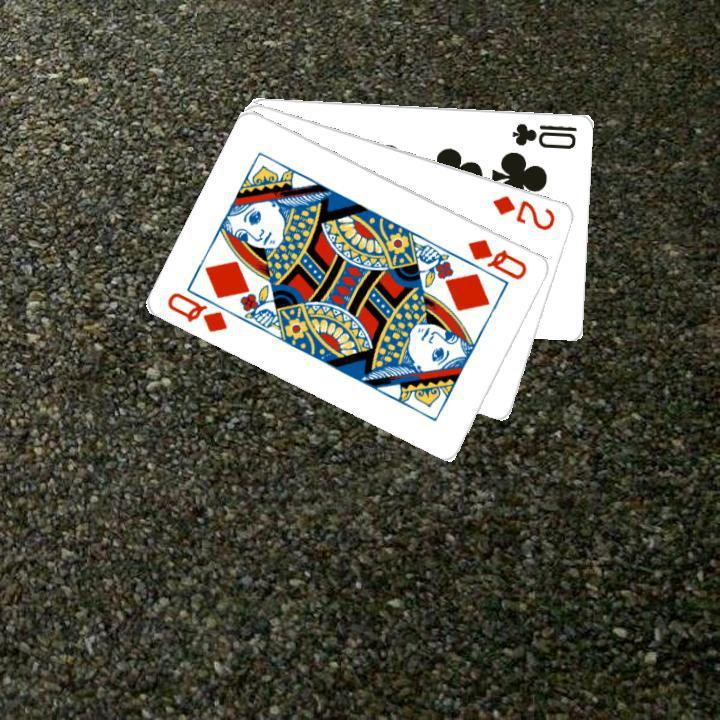10: (508, 118, 580, 150)
2: (489, 191, 558, 232)
Q: (163, 287, 231, 335), (463, 234, 530, 282)
